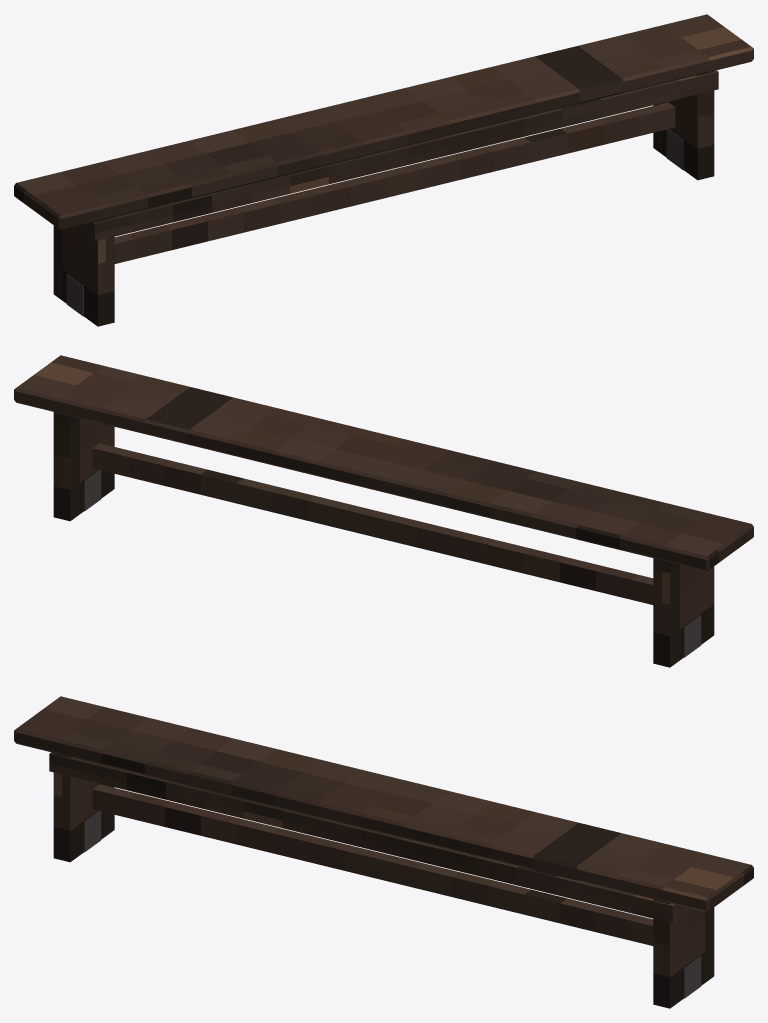
Rendered from castle_bench.obj.
3 renders of one model, top to bottom at view 1: azimuth 30°, elevation 25°; view 2: azimuth 150°, elevation 25°; view 3: azimuth 330°, elevation 25°, orthographic.
Parts seen in each view (by area): view 1: castle_bench; view 2: castle_bench; view 3: castle_bench.
Boxes of the visible parts, x1=… form: castle_bench: x1=14, y1=14, x2=753, y2=326; castle_bench: x1=14, y1=355, x2=753, y2=667; castle_bench: x1=14, y1=696, x2=753, y2=1008.
Bounding box in the file's own units: 2.9 × 0.48 × 0.34.
